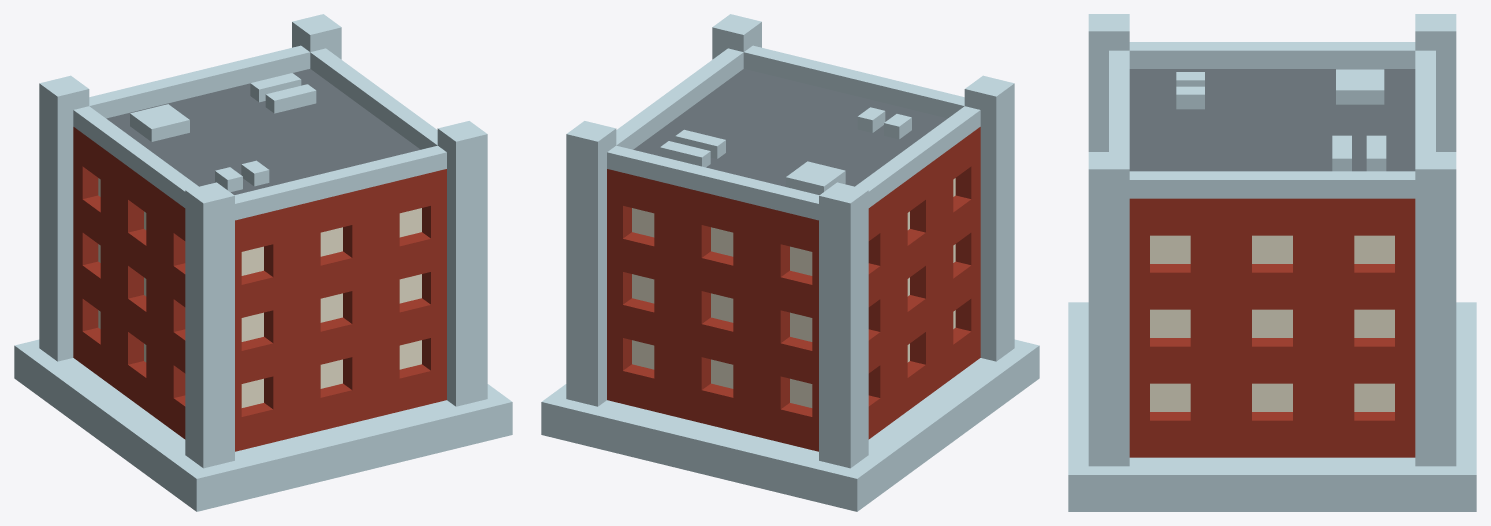
File: Building_11_Base_Extra (Red).obj
3 views of the same model, side by side, from view 1: azimuth 30°, elevation 25°; view 2: azimuth 150°, elevation 25°; view 3: azimuth 270°, elevation 25° (orthographic). The views are drawn at different scales.
Visible parts, largest first — view 1: Building_11_Base_Extra_(Red); view 2: Building_11_Base_Extra_(Red); view 3: Building_11_Base_Extra_(Red).
Boxes of the visible parts, <box> form: Building_11_Base_Extra_(Red): <box>14,14,512,511</box>; Building_11_Base_Extra_(Red): <box>541,14,1039,511</box>; Building_11_Base_Extra_(Red): <box>1068,14,1476,511</box>.
Bounding box in the file's own units: 2 × 1.8 × 2.
